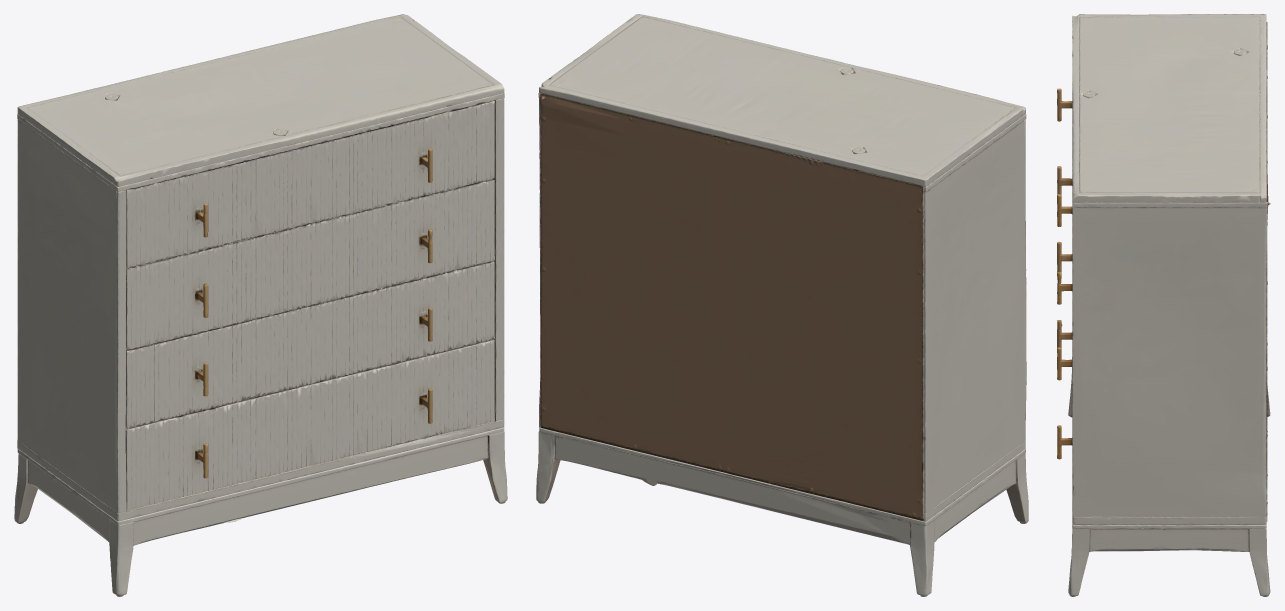
File: No Name-04.glb
3 renders of one model, left to right at view 1: azimuth 30°, elevation 25°; view 2: azimuth 150°, elevation 25°; view 3: azimuth 270°, elevation 25°, orthographic. The views are drawn at different scales.
Visible parts, largest first — view 1: tripo_node_a84e332a-51db-4c65-9444-8f8724802932; view 2: tripo_node_a84e332a-51db-4c65-9444-8f8724802932; view 3: tripo_node_a84e332a-51db-4c65-9444-8f8724802932.
Part boxes in pixels (x1,y1,x2,y2): tripo_node_a84e332a-51db-4c65-9444-8f8724802932: [14, 14, 507, 596]; tripo_node_a84e332a-51db-4c65-9444-8f8724802932: [536, 14, 1028, 596]; tripo_node_a84e332a-51db-4c65-9444-8f8724802932: [1057, 14, 1270, 596].
Bounding box in the file's own units: 0.9637 × 0.9786 × 0.4724.
Materials: 1 (1 with a texture image).
